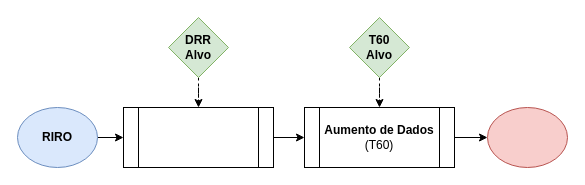
The diagram is 585 pixels wide and 185 high, and some of its shapes have lost their labels. The centre of each missing label's shape, as x and y in pixels:
Aumento de Dados (DRR): the point at 198,137
RIRSM: the point at 527,137
